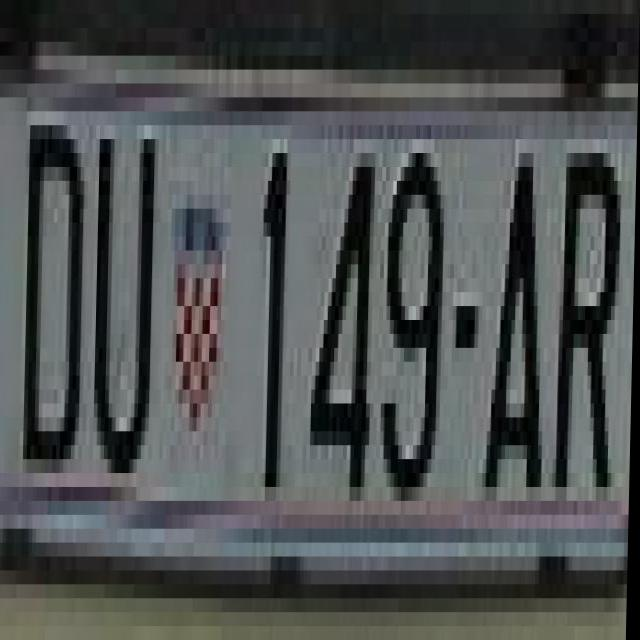1: (252, 125, 289, 529)
4: (307, 140, 377, 514)
9: (381, 139, 447, 487)
A: (477, 111, 547, 487)
D: (17, 97, 87, 487)
U: (87, 97, 153, 473)
